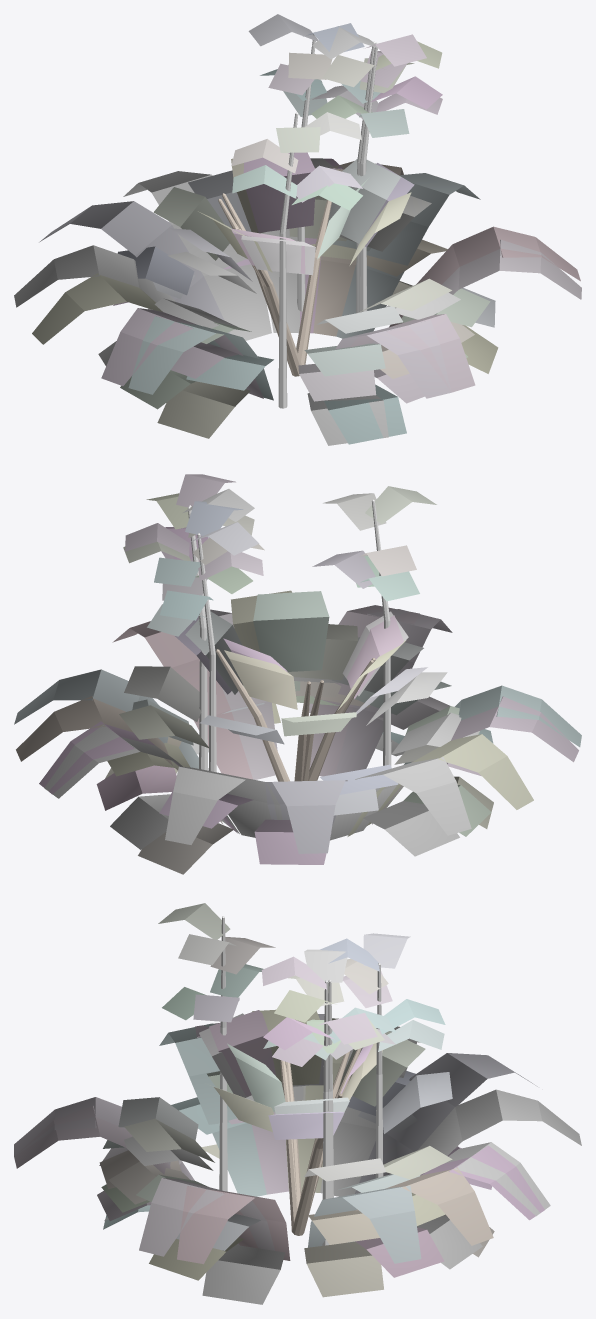
Rendered from thicket_0.glb.
3 renders of one model, top to bottom at view 1: azimuth 30°, elevation 25°; view 2: azimuth 150°, elevation 25°; view 3: azimuth 270°, elevation 25°, orthographic.
Visible parts, largest first — view 1: thicket_0; view 2: thicket_0; view 3: thicket_0.
Part boxes in pixels (x1,y1,x2,y2): thicket_0: (14,14,581,445); thicket_0: (14,474,581,874); thicket_0: (14,903,581,1304).
Size of the model in its own units: 1.73 by 1.08 by 1.78.
